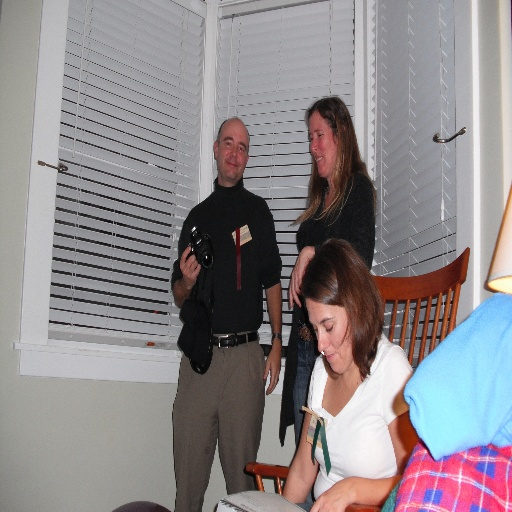hand: (173, 245, 206, 313), (287, 243, 310, 309), (308, 479, 350, 511), (263, 345, 281, 396)
